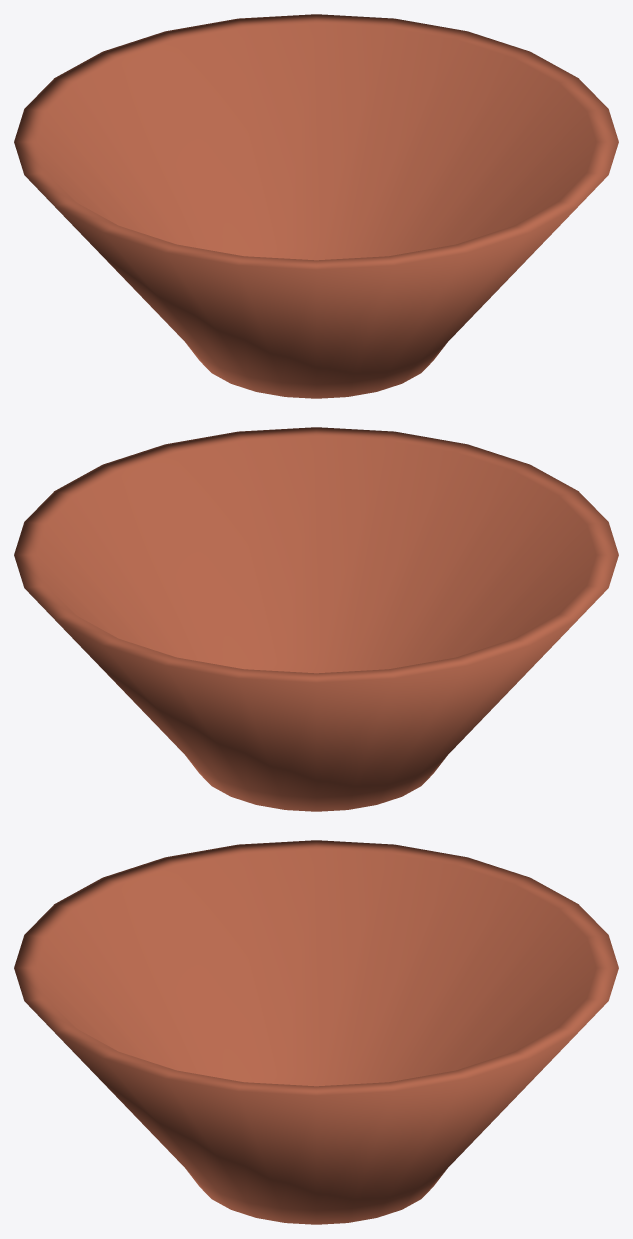
Rendered from i_bowl_2.glb.
3 views of the same model, one above another, from view 1: azimuth 30°, elevation 25°; view 2: azimuth 150°, elevation 25°; view 3: azimuth 270°, elevation 25° (orthographic).
Visible parts, largest first — view 1: o; view 2: o; view 3: o.
Part boxes in pixels (box(x1,y1,x2,y2)): o: box(14, 14, 618, 398); o: box(14, 427, 618, 811); o: box(14, 840, 618, 1224).
Size of the model in its own units: 0.16 by 0.06 by 0.16.
